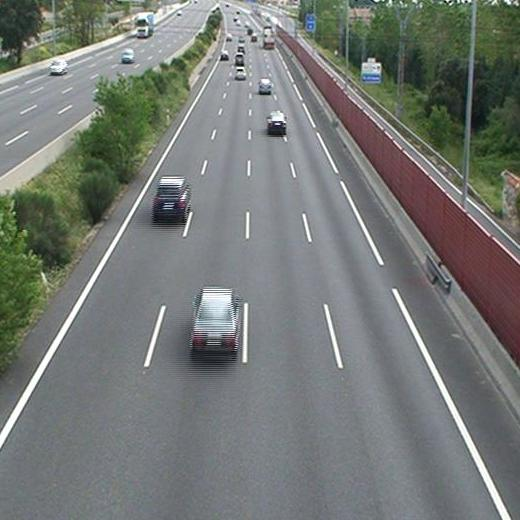car: (192, 290, 237, 348), (154, 179, 190, 214), (268, 113, 286, 129), (258, 79, 272, 92), (234, 68, 245, 79), (235, 53, 245, 65), (219, 50, 229, 59)
truck: (263, 26, 273, 50)
